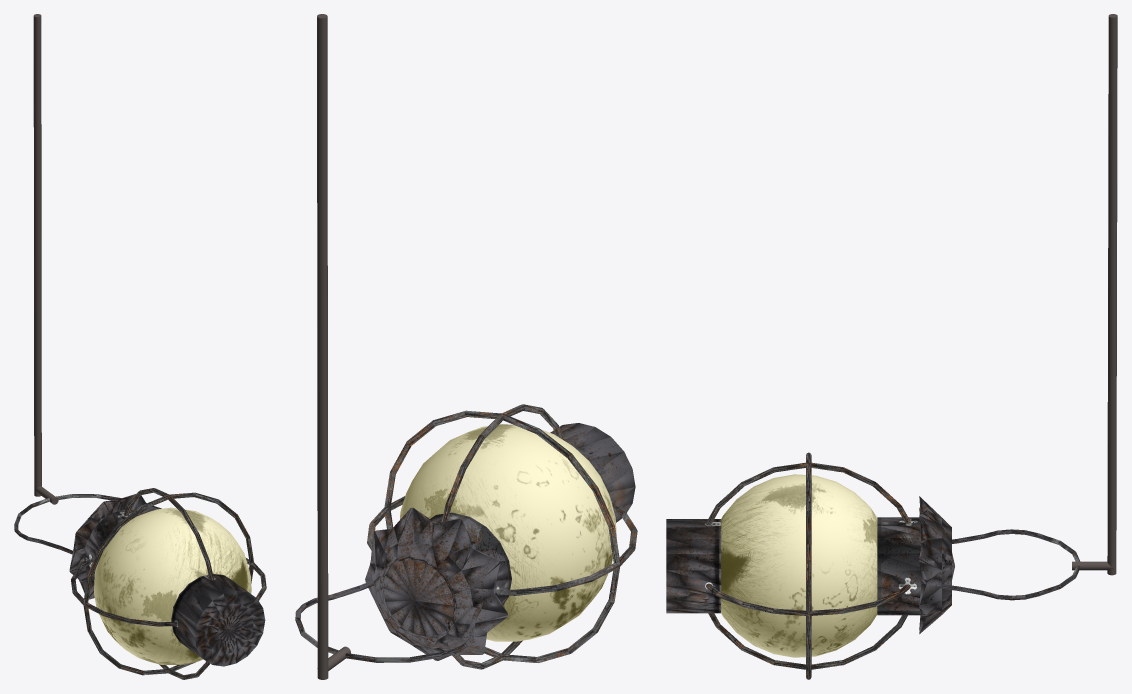
File: PointLamp2.fbx
The picture shows the model from 3 angles, left to right: view 1: azimuth 30°, elevation 25°; view 2: azimuth 150°, elevation 25°; view 3: azimuth 270°, elevation 25°; orthographic projection. The views are drawn at different scales.
Parts seen in each view (by area): view 1: Sphere001; view 2: Sphere001; view 3: Sphere001.
Boxes of the visible parts, x1,y1,x2,y2 form: Sphere001: [14, 14, 266, 679]; Sphere001: [295, 14, 637, 679]; Sphere001: [666, 14, 1117, 679].
Bounding box in the file's own units: 97 × 305 × 191.
Materials: 1 (1 with a texture image).
